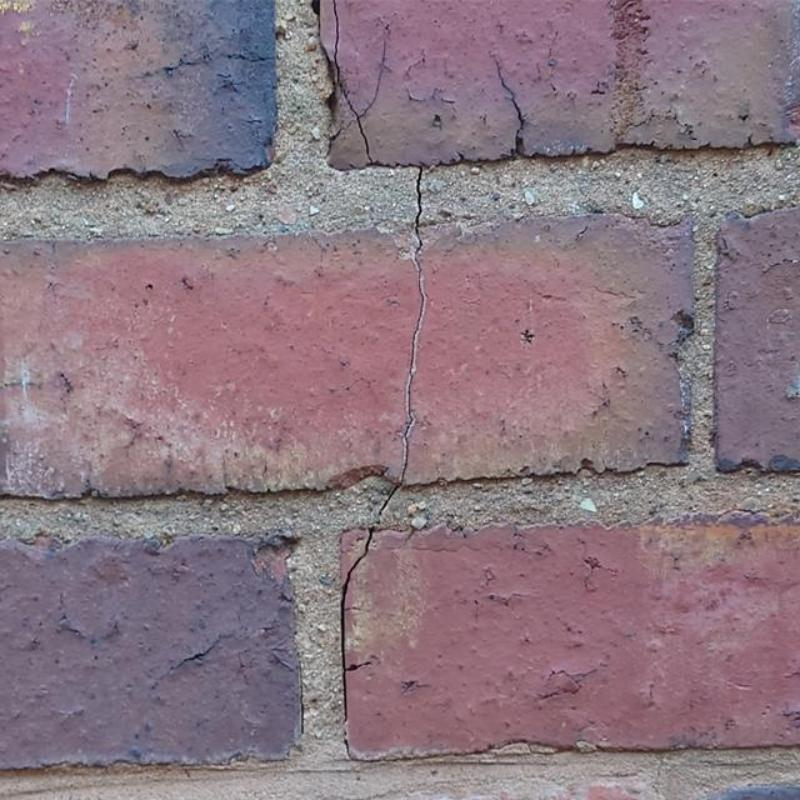pothole: (377, 170, 428, 520), (329, 1, 386, 166), (341, 528, 374, 741), (493, 56, 524, 156)
